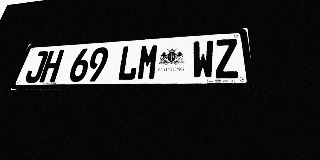6: (67, 48, 93, 82)
9: (85, 47, 110, 81)
H: (39, 50, 64, 82)
J: (23, 51, 49, 83)
L: (116, 45, 140, 81)
M: (136, 43, 160, 80)
W: (192, 40, 215, 79)
Z: (214, 38, 240, 79)
